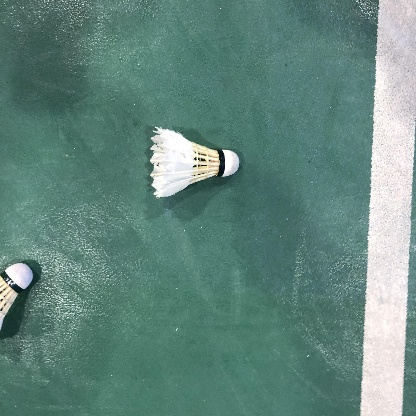ball_single: (150, 126, 239, 197), (0, 263, 33, 332)
